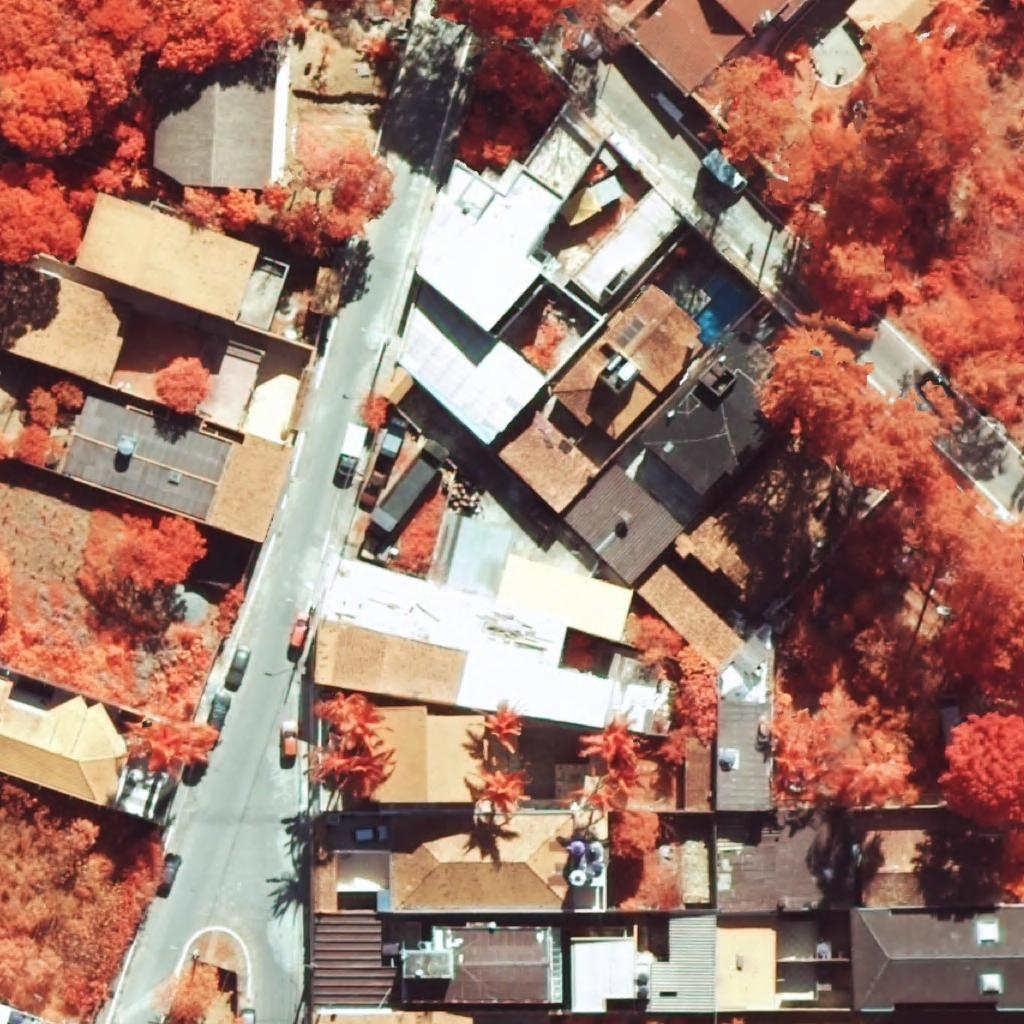pool: (693, 277, 747, 344)
